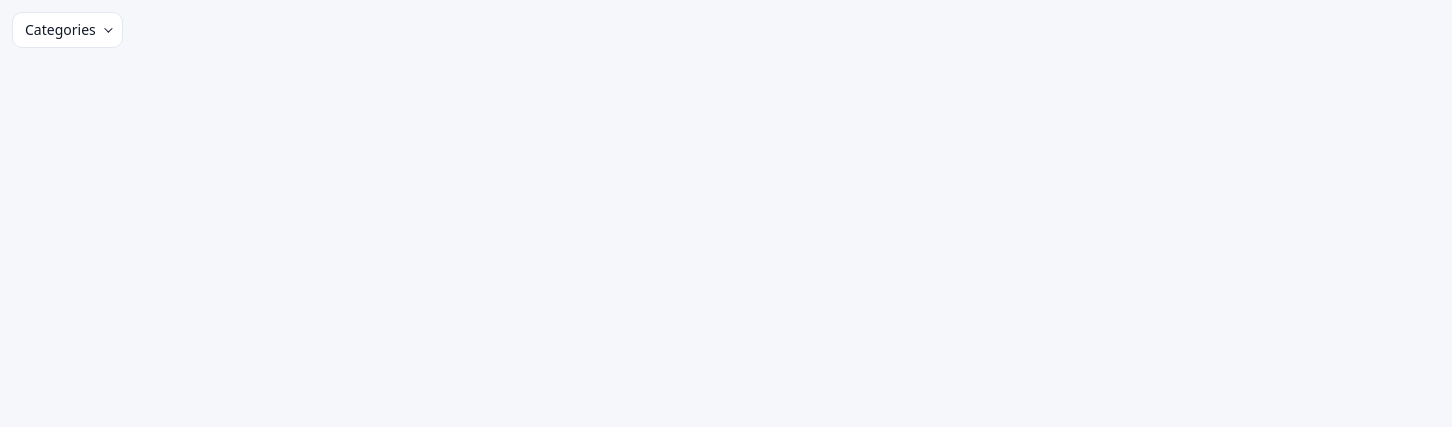
Test: CategoryMenu › closes when a click lands outside it
The width and height of the screenshot is (1452, 427).
Click the button "Categories" at (67, 30), box [12,12,123,48]
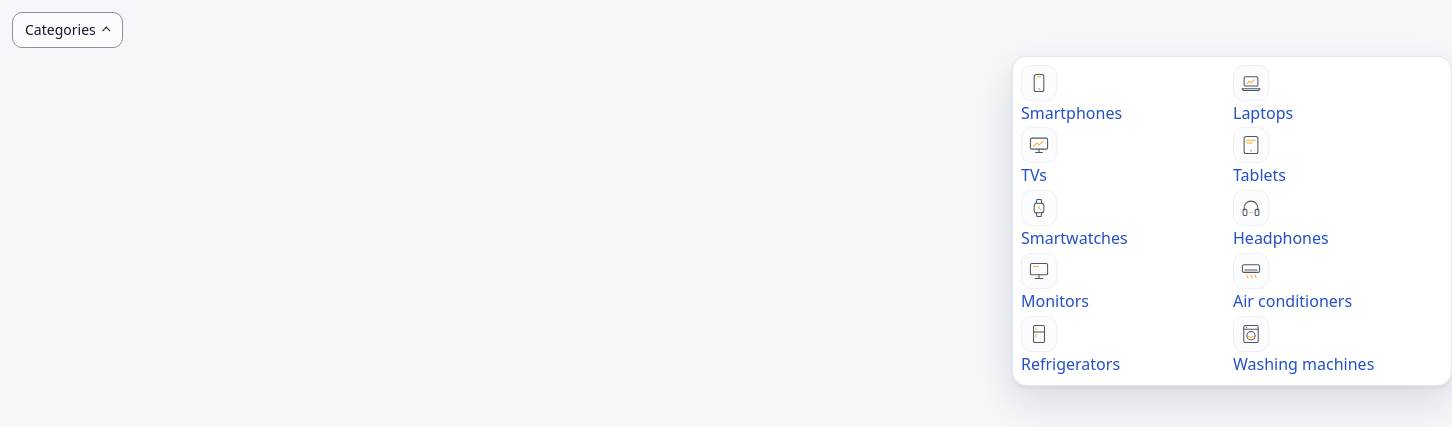
Press the mouse on the element that starts with "Categories" at (732, 30), box [12,12,1451,48]
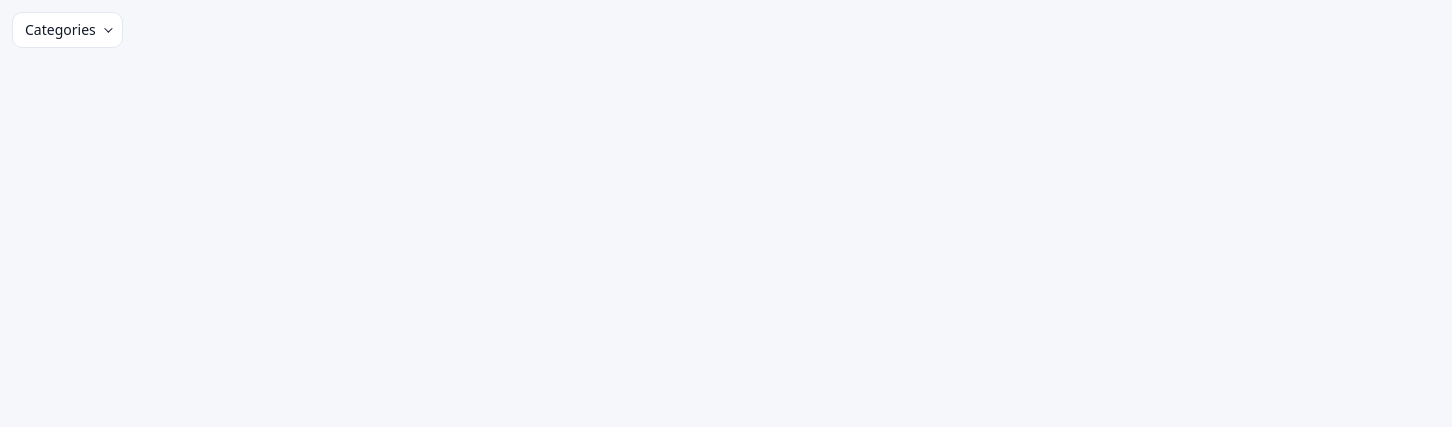
Now the button "Categories" is collapsed, box [12,12,123,48]
